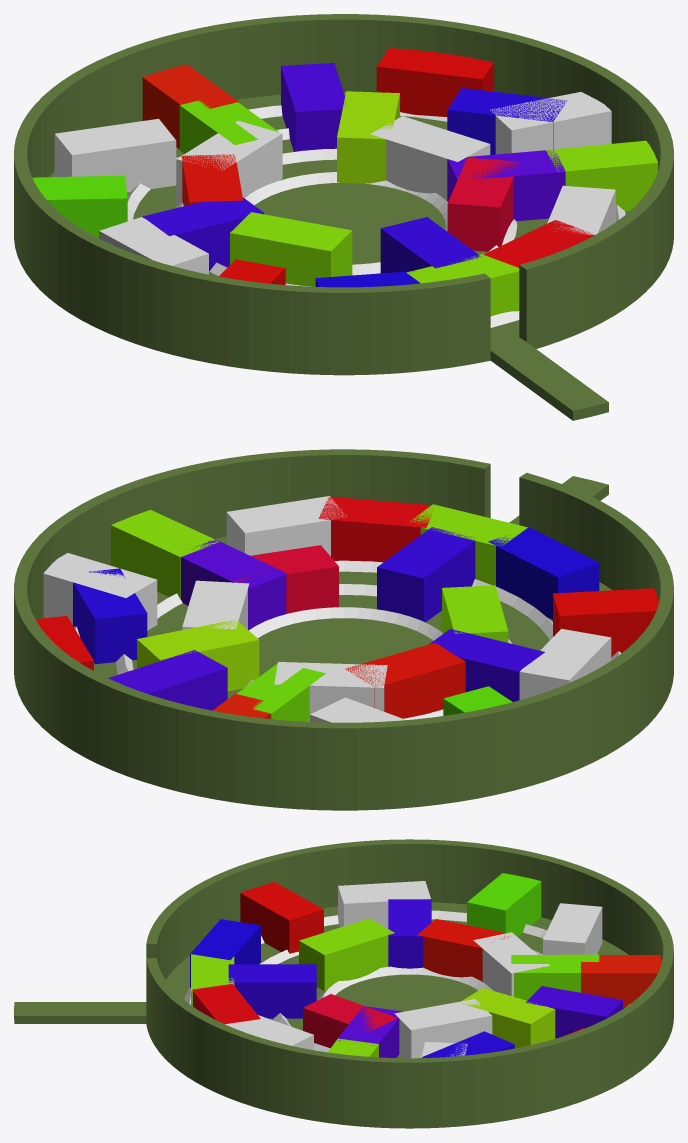
File: level_mock.fbx
3 views of the same model, one above another, from view 1: azimuth 30°, elevation 25°; view 2: azimuth 150°, elevation 25°; view 3: azimuth 270°, elevation 25° (orthographic). The views are drawn at different scales.
Visible parts, largest first — view 1: Cylinder, Cube.017, Cube.009, Cube.023, Cube.020, Cube.022, Cube.008, Cube.019, Cube.006, Cube.018, Cube.007, Cube.012 (+16 smaller); view 2: Cylinder, Cube.004, Cube.001, Cube.003, Cube.013, Cube.006, Cube.005, Cube.007, Cube.002, Cube.021, Cube.018, Cube.023 (+16 smaller); view 3: Cylinder, Cube.009, Cube.002, Cube.004, Cube.022, Cube.012, Cube.013, Cube.018, Cube.016, Cube.011, Cube.017, Cube.010 (+13 smaller).
Part boxes in pixels (bbox=[...]): Cylinder: bbox=[14, 14, 673, 420]; Cube.017: bbox=[54, 118, 176, 192]; Cube.009: bbox=[230, 212, 352, 286]; Cube.023: bbox=[490, 92, 611, 154]; Cube.020: bbox=[376, 48, 493, 116]; Cube.022: bbox=[370, 116, 490, 201]; Cube.008: bbox=[447, 157, 519, 251]; Cube.019: bbox=[281, 63, 348, 151]; Cube.006: bbox=[546, 140, 657, 211]; Cube.018: bbox=[337, 91, 399, 183]; Cube.007: bbox=[447, 150, 565, 221]; Cube.012: bbox=[32, 175, 127, 237]; Cylinder: bbox=[14, 449, 673, 810]; Cube.004: bbox=[377, 527, 475, 622]; Cube.001: bbox=[488, 527, 599, 619]; Cube.003: bbox=[318, 496, 434, 562]; Cube.013: bbox=[345, 642, 465, 718]; Cube.006: bbox=[111, 510, 218, 599]; Cube.005: bbox=[226, 496, 347, 556]; Cube.007: bbox=[181, 539, 287, 630]; Cube.002: bbox=[553, 588, 658, 657]; Cube.021: bbox=[73, 568, 147, 664]; Cube.018: bbox=[137, 620, 259, 691]; Cube.023: bbox=[43, 553, 157, 630]; Cylinder: bbox=[14, 839, 673, 1128]; Cube.009: bbox=[299, 918, 394, 991]; Cube.002: bbox=[240, 882, 323, 953]; Cube.004: bbox=[228, 964, 316, 1018]; Cube.022: bbox=[394, 999, 492, 1058]; Cube.012: bbox=[467, 873, 541, 936]; Cube.013: bbox=[417, 919, 510, 981]; Cube.018: bbox=[461, 988, 555, 1048]; Cube.016: bbox=[581, 955, 661, 1008]; Cube.011: bbox=[338, 881, 430, 928]; Cube.017: bbox=[543, 903, 602, 954]; Cube.010: bbox=[388, 899, 431, 968].
Size of the model in its own units: 1200 by 180 by 1499.
